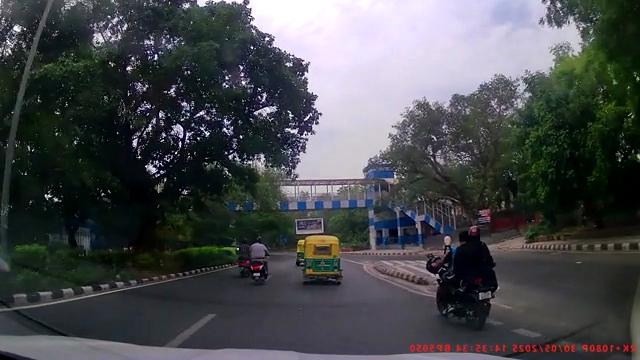motorcycle_with_helmet: (246, 234, 271, 285)
passenger_with_helmet: (432, 223, 499, 330)
